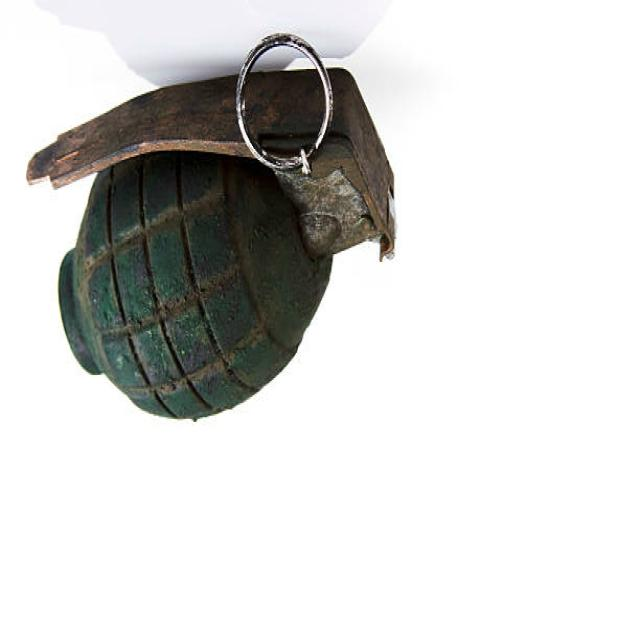grenade: (25, 28, 404, 431)
